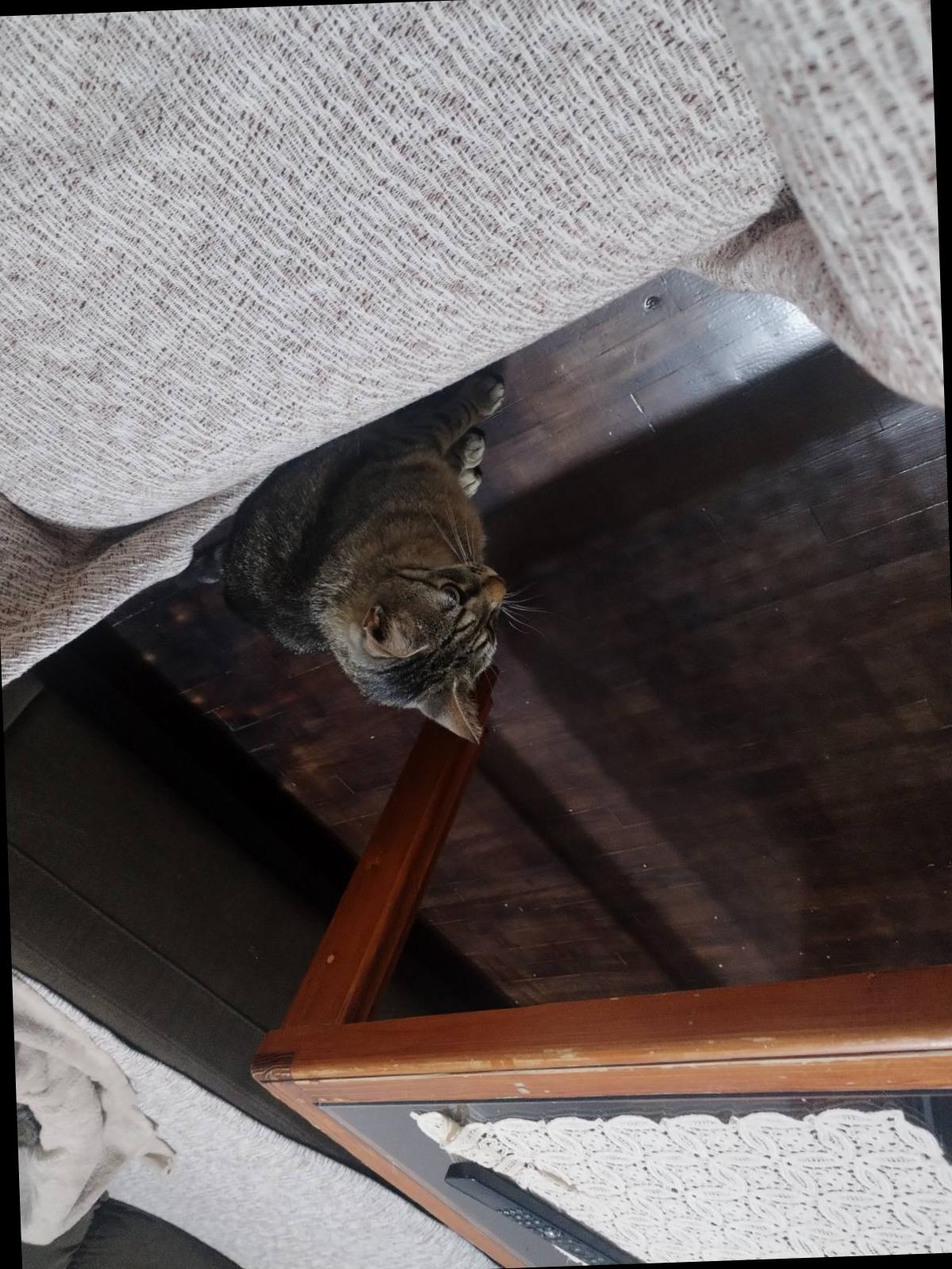macka: (184, 381, 530, 760)
